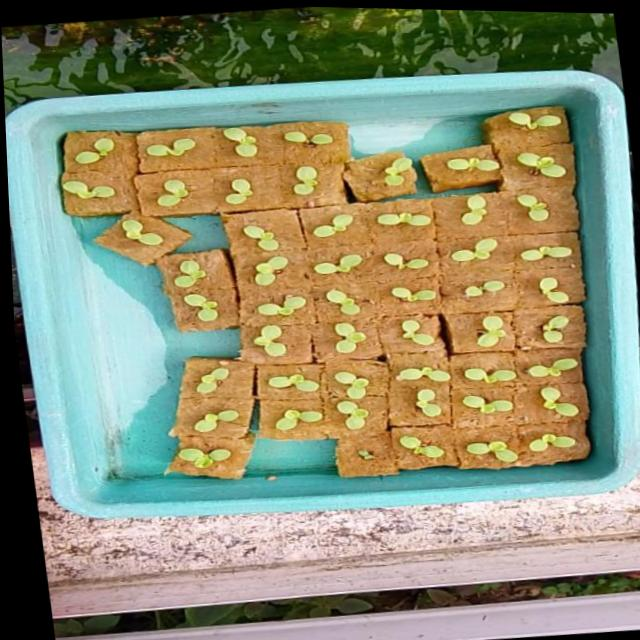Baby: (131, 212, 189, 251), (76, 130, 138, 163), (514, 186, 578, 217), (285, 366, 338, 395), (251, 252, 303, 281), (95, 165, 149, 192), (471, 277, 532, 300), (270, 287, 320, 315), (150, 134, 209, 157), (563, 312, 604, 345), (414, 314, 459, 344), (183, 251, 220, 285), (546, 355, 604, 375), (564, 384, 601, 415), (194, 444, 248, 465), (488, 440, 540, 461), (468, 234, 515, 257), (420, 433, 465, 457), (237, 123, 272, 153), (257, 219, 294, 247), (211, 405, 256, 428), (353, 318, 385, 350), (271, 321, 304, 352), (497, 312, 528, 345), (353, 368, 388, 396), (330, 250, 378, 270), (398, 248, 448, 267), (342, 285, 377, 312), (356, 396, 387, 426), (550, 432, 598, 451), (415, 364, 471, 380), (294, 410, 340, 429), (174, 175, 205, 203), (214, 363, 246, 390), (484, 365, 537, 381), (478, 191, 505, 220), (539, 241, 591, 256), (557, 274, 588, 299), (199, 297, 234, 319), (308, 161, 334, 190), (436, 387, 462, 415), (241, 174, 267, 200), (408, 283, 453, 298), (337, 210, 366, 232), (494, 397, 533, 411)
